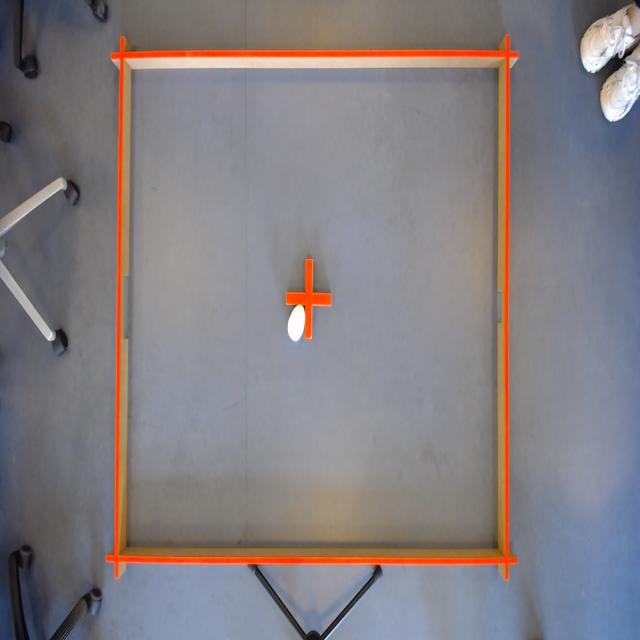cross: (284, 256, 332, 340)
egg: (286, 302, 307, 345)
